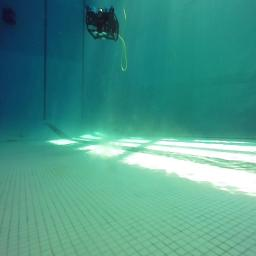front: (84, 3, 120, 42)
